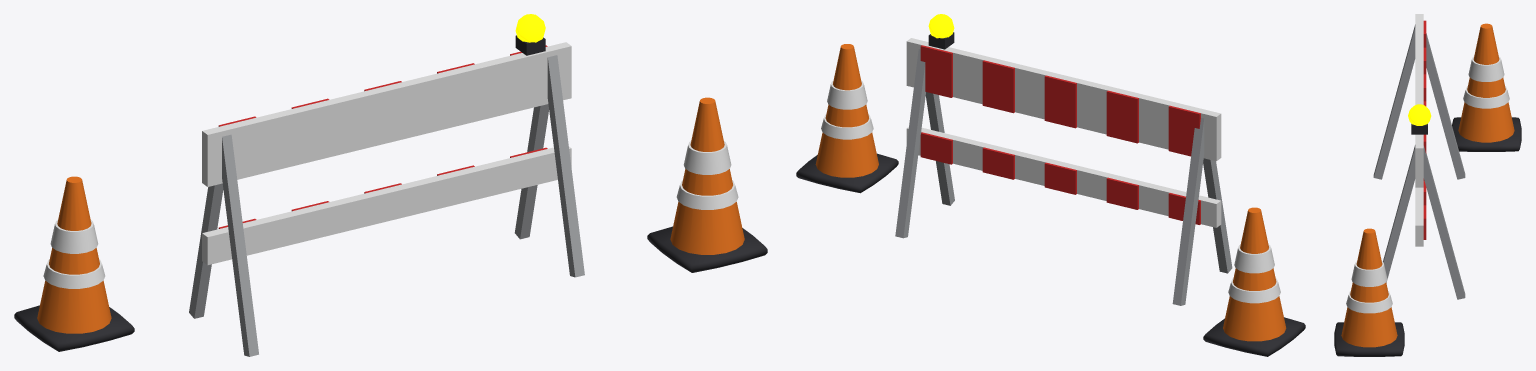
File: barrier.glb
3 views of the same model, side by side, from view 1: azimuth 30°, elevation 25°; view 2: azimuth 150°, elevation 25°; view 3: azimuth 270°, elevation 25° (orthographic). The views are drawn at different scales.
Parts seen in each view (by area): view 1: barriermesh, conemesh.001, conemesh.002, flasher; view 2: barriermesh, conemesh.002, conemesh.001, flasher; view 3: barriermesh, conemesh.002, conemesh.001, flasher.
Part boxes in pixels (x1,y1,x2,y2): barriermesh: (189,35,584,356); conemesh.001: (14,176,134,351); conemesh.002: (647,97,767,272); flasher: (515,14,545,42); barriermesh: (895,32,1232,305); conemesh.002: (796,44,898,193); conemesh.001: (1203,207,1305,356); flasher: (928,14,954,38); barriermesh: (1373,14,1465,299); conemesh.002: (1334,228,1404,356); conemesh.001: (1452,23,1521,151); flasher: (1408,104,1431,125).
Size of the model in its own units: 3.32 by 1.23 by 1.12.
